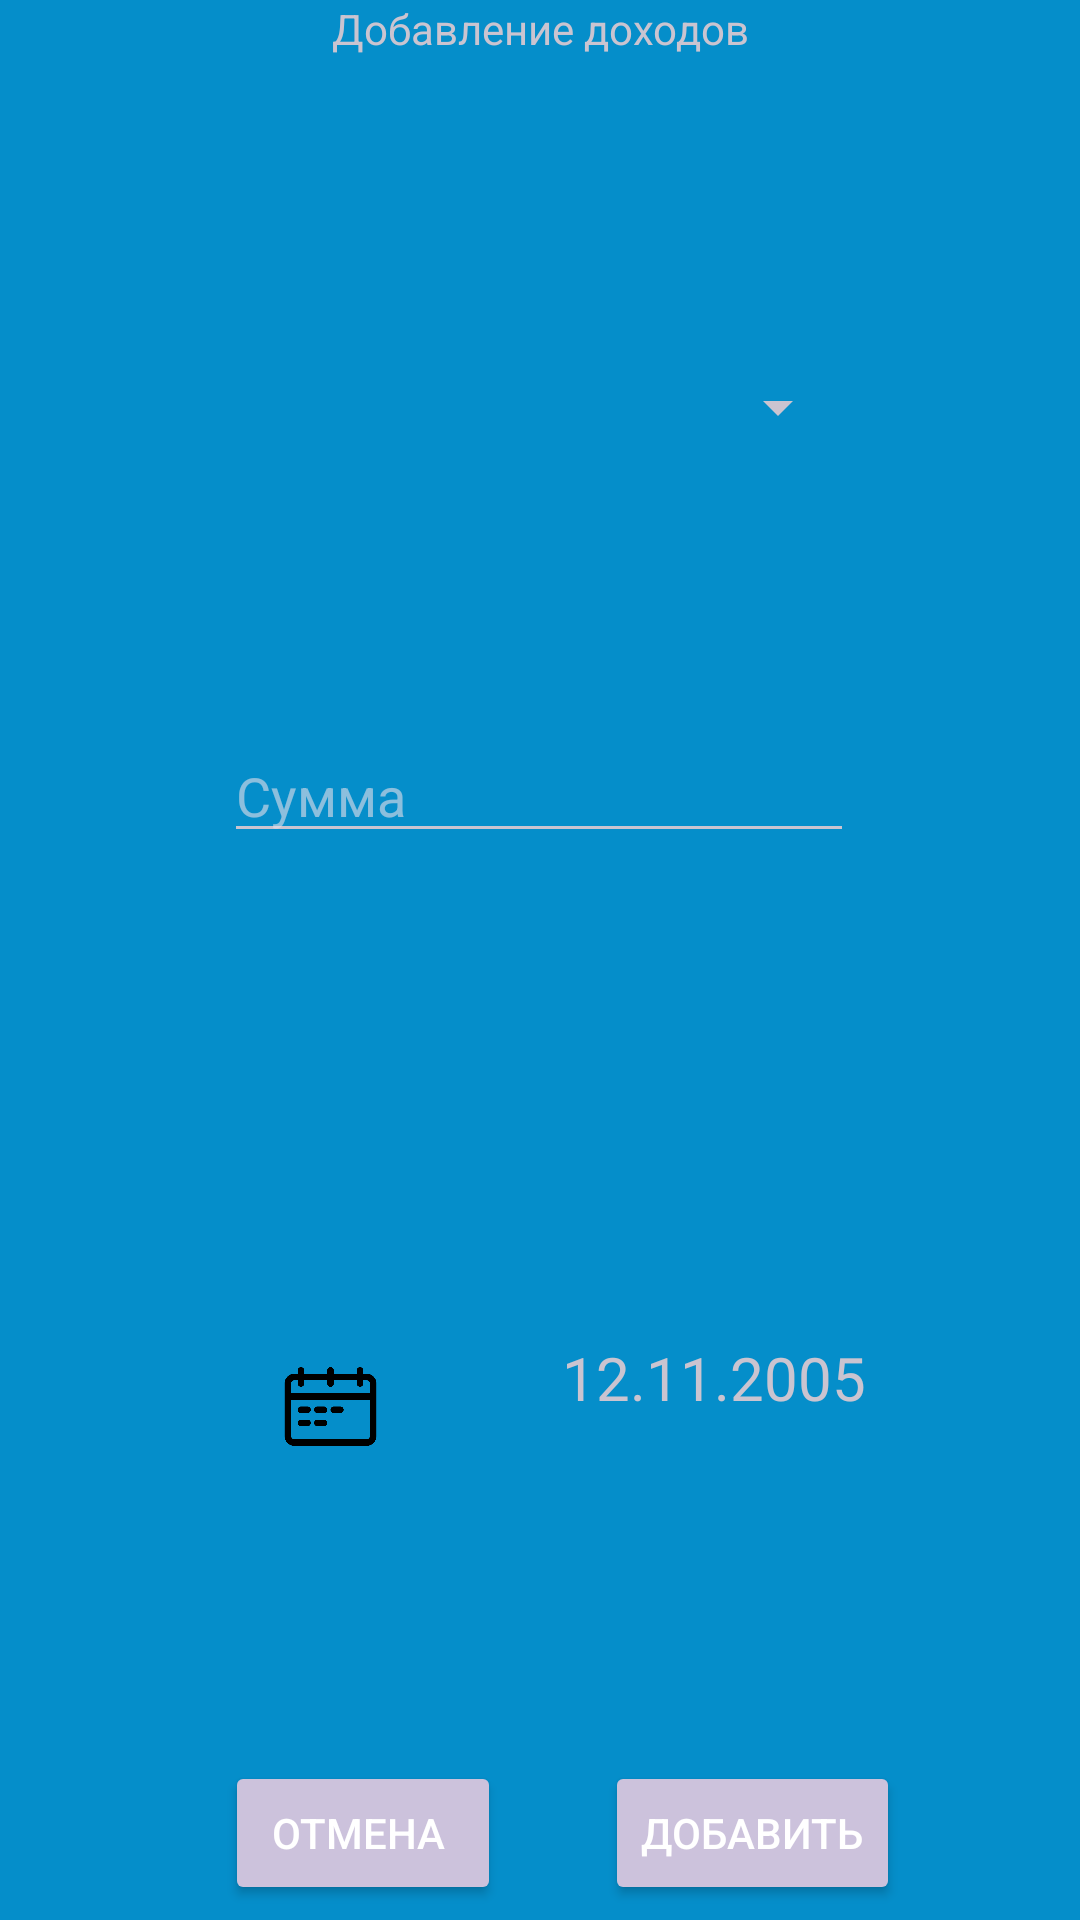

Screen size 1080px x 1920px. Icon name, then its box in pixels as [x1=x1, y1=y1, x2=x2, y2=y2]:
calendar: [x1=284, y1=1367, x2=377, y2=1446]
